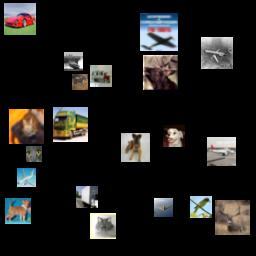airplane: (140, 13, 178, 51), (201, 37, 233, 69), (207, 137, 236, 166), (17, 168, 36, 187), (154, 198, 173, 217)
automobile: (4, 3, 36, 35)
bird: (190, 196, 212, 218)
cat: (9, 109, 44, 144), (90, 213, 116, 239), (26, 146, 42, 162)
deer: (143, 55, 178, 90), (215, 200, 250, 235)
dog: (121, 133, 150, 162), (5, 198, 31, 224), (163, 125, 185, 147)
ship: (64, 52, 83, 71)
truck: (53, 107, 88, 142), (90, 65, 112, 87), (76, 186, 98, 208)
